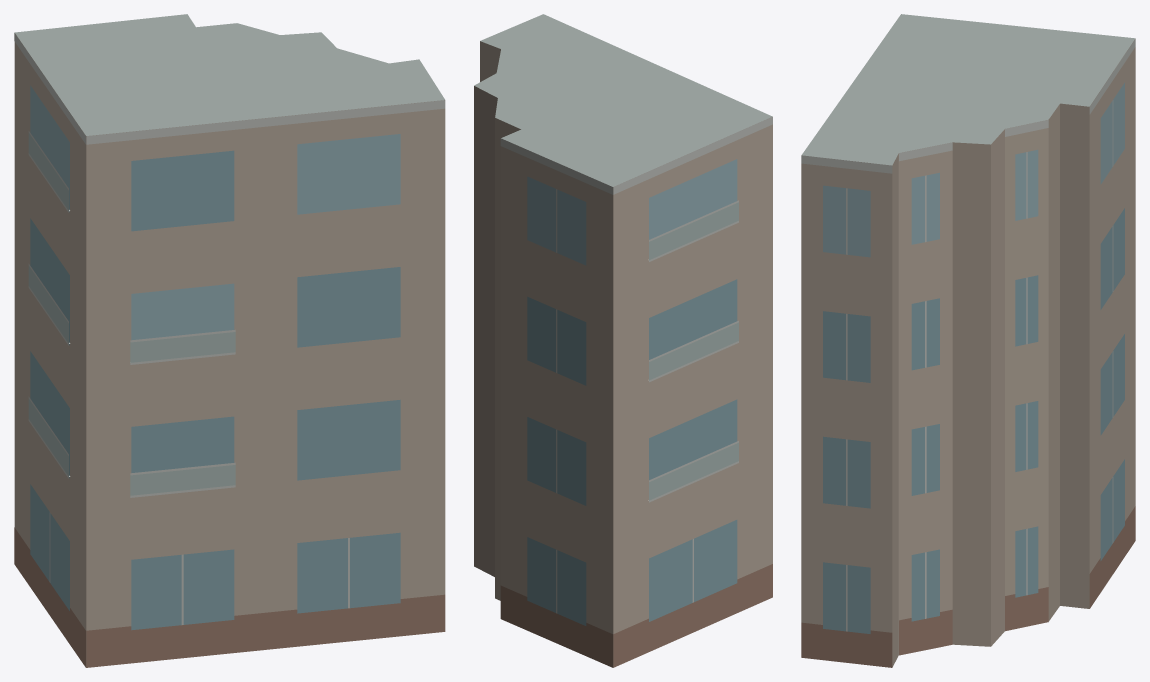
File: survey-upis-32823279.glb
3 renders of one model, left to right at view 1: azimuth 30°, elevation 25°; view 2: azimuth 150°, elevation 25°; view 3: azimuth 270°, elevation 25°, orthographic. The views are drawn at different scales.
Parts seen in each view (by area): view 1: survey-upis-32823279.tmp; view 2: survey-upis-32823279.tmp; view 3: survey-upis-32823279.tmp.
Part boxes in pixels (x1=…): survey-upis-32823279.tmp: x1=14, y1=14, x2=445, y2=667; survey-upis-32823279.tmp: x1=474, y1=14, x2=772, y2=667; survey-upis-32823279.tmp: x1=801, y1=14, x2=1135, y2=667.
Size of the model in its own units: 9.68 by 14.95 by 9.03.
